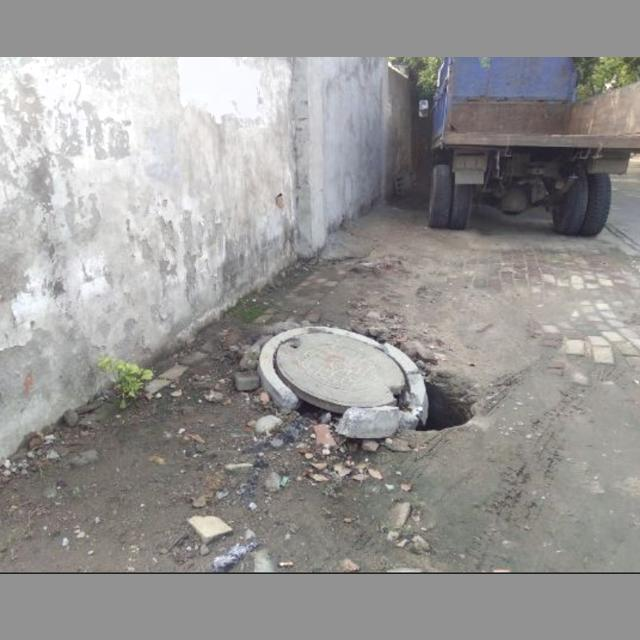circle: (255, 324, 458, 441)
